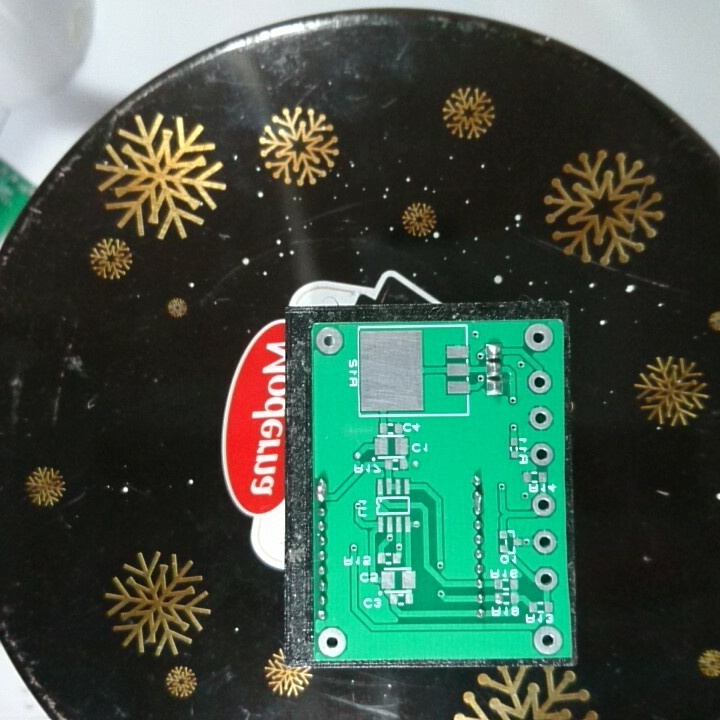F: (531, 623, 567, 657), (315, 624, 348, 659), (314, 325, 348, 357), (523, 323, 557, 354), (526, 403, 557, 432), (527, 440, 557, 469), (531, 564, 562, 592), (531, 492, 559, 520), (525, 369, 553, 395), (531, 529, 559, 555)
P: (314, 473, 332, 504), (470, 489, 485, 517)
